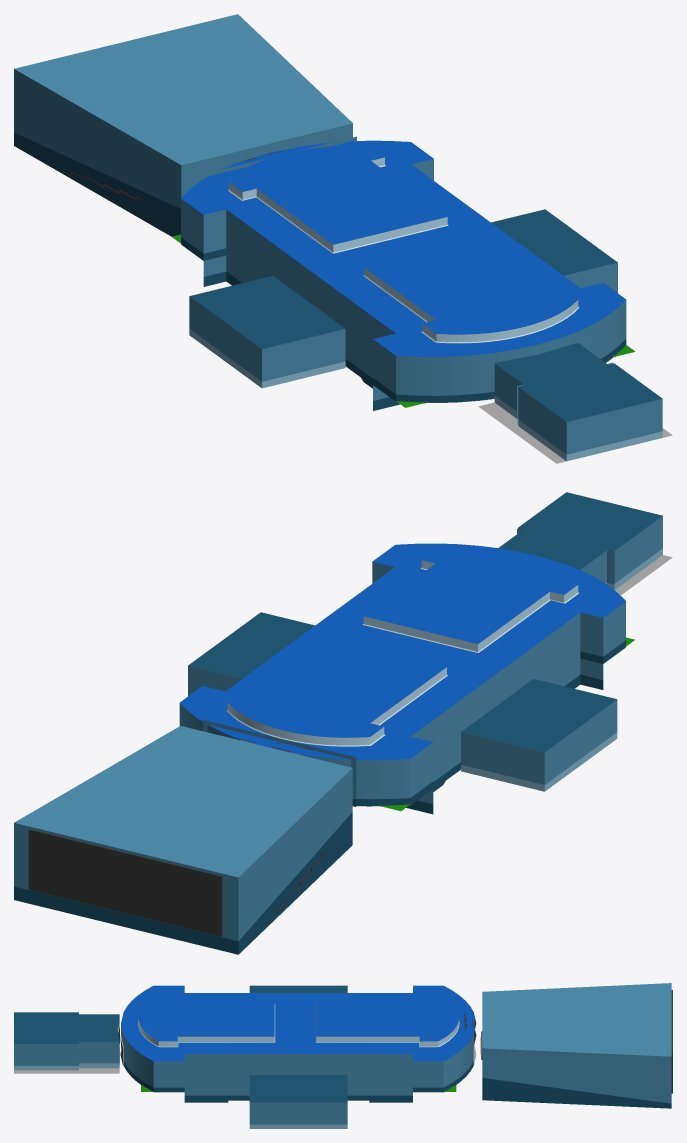
The model's file is Meta5.fbx.
The picture shows the model from 3 angles, top to bottom: view 1: azimuth 30°, elevation 25°; view 2: azimuth 150°, elevation 25°; view 3: azimuth 270°, elevation 25°; orthographic projection. The views are drawn at different scales.
Visible parts, largest first — view 1: Circle.002, Circle.008, Circle.003; view 2: Circle.002, Circle.003, Circle.008, Circle.005; view 3: Circle.002, Circle.003, Circle.008.
Part boxes in pixels (x1,y1,x2,y2): Circle.002: (181,140,626,376); Circle.008: (172,136,672,463); Circle.003: (14,14,352,236); Circle.002: (179,543,625,778); Circle.003: (14,726,352,954); Circle.008: (179,492,672,814); Circle.005: (28,829,222,936); Circle.002: (121,985,476,1074); Circle.003: (480,983,671,1108); Circle.008: (14,985,476,1128).
Size of the model in its own units: 7655 by 1656 by 18217.
7 materials, 1 textured.
